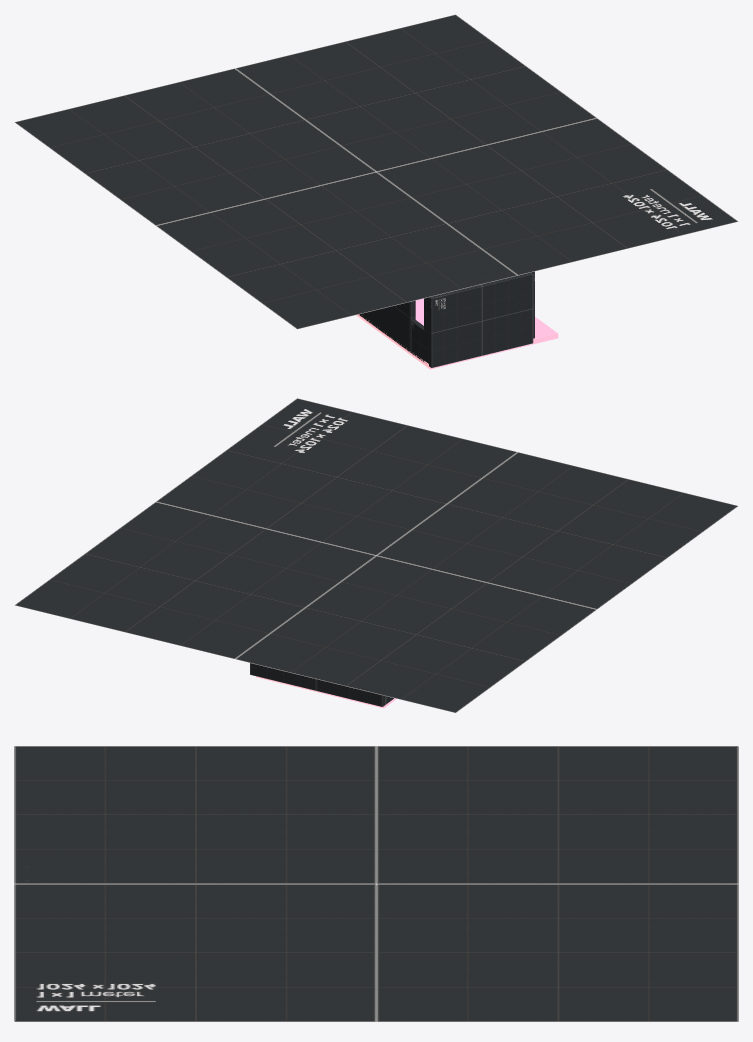
Rendered from test_grids.glb.
The picture shows the model from 3 angles, top to bottom: view 1: azimuth 30°, elevation 25°; view 2: azimuth 150°, elevation 25°; view 3: azimuth 270°, elevation 25°; orthographic projection. The views are drawn at different scales.
Visible parts, largest first — view 1: roof2, wall2-col, lava2-col; view 2: roof2, wall2-col; view 3: roof2.
Part boxes in pixels (left/top/right/bottom): roof2: left=14, top=14, right=738, bottom=329; wall2-col: left=359, top=271, right=534, bottom=367; lava2-col: left=356, top=298, right=558, bottom=369; roof2: left=14, top=398, right=738, bottom=712; wall2-col: left=250, top=663, right=393, bottom=706; roof2: left=14, top=746, right=738, bottom=1021.
Bounding box in the file's own units: 100 × 16.5 × 111.
4 materials, 4 textured.
